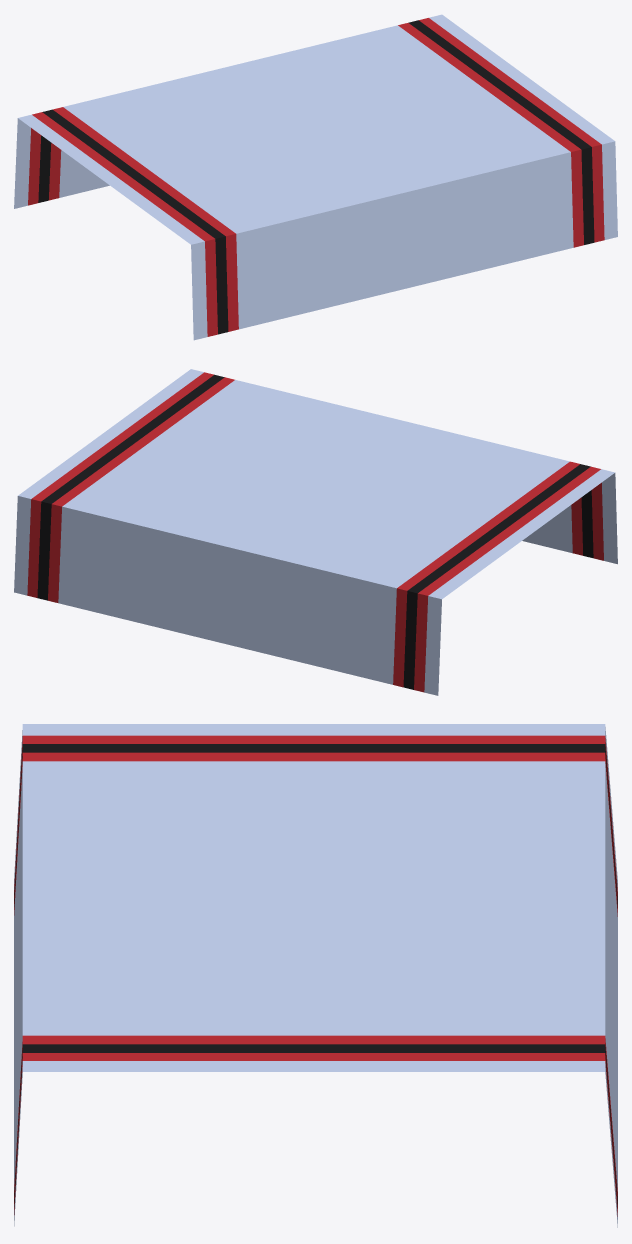
File: tablecloth_LOW.fbx
The picture shows the model from 3 angles, top to bottom: view 1: azimuth 30°, elevation 25°; view 2: azimuth 150°, elevation 25°; view 3: azimuth 270°, elevation 25°; orthographic projection. The views are drawn at different scales.
Visible parts, largest first — view 1: tablecloth; view 2: tablecloth; view 3: tablecloth.
Part boxes in pixels (x1,y1,x2,y2): tablecloth: (14, 14, 617, 340); tablecloth: (14, 369, 617, 695); tablecloth: (14, 724, 617, 1227).
Size of the model in its own units: 185 by 39.12 by 136.
